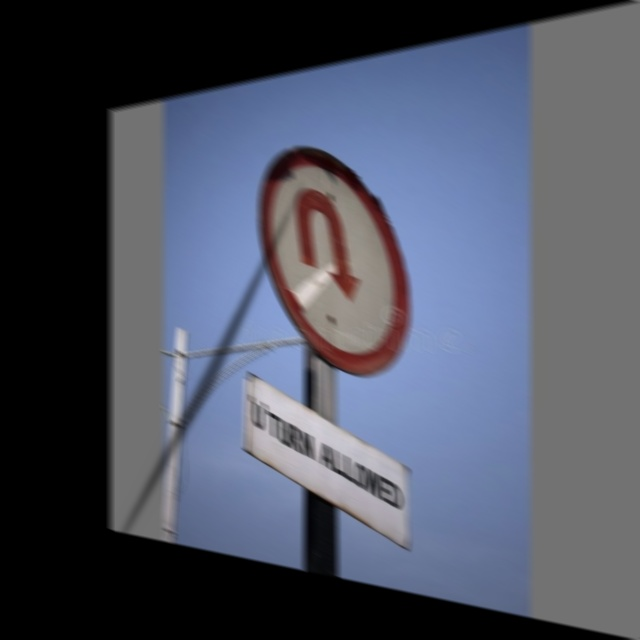U_Turn_Ahead: (261, 115, 429, 380)
